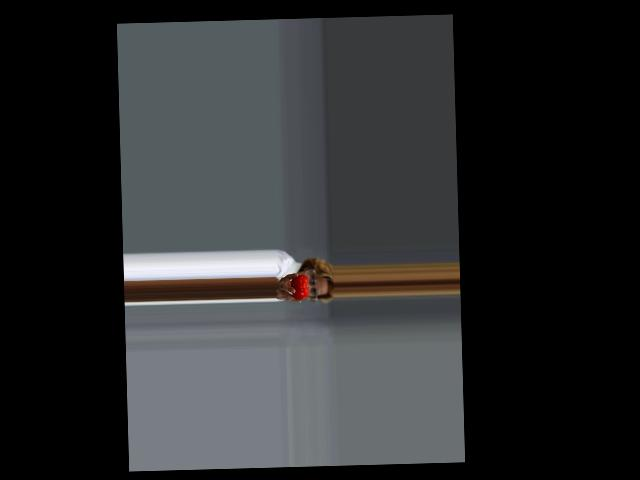tomato: (290, 273, 308, 299)
